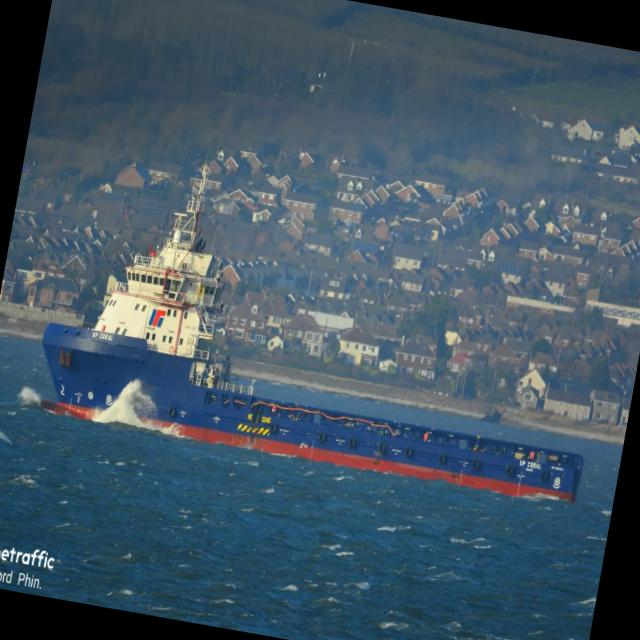Offshore: (42, 165, 582, 501)
